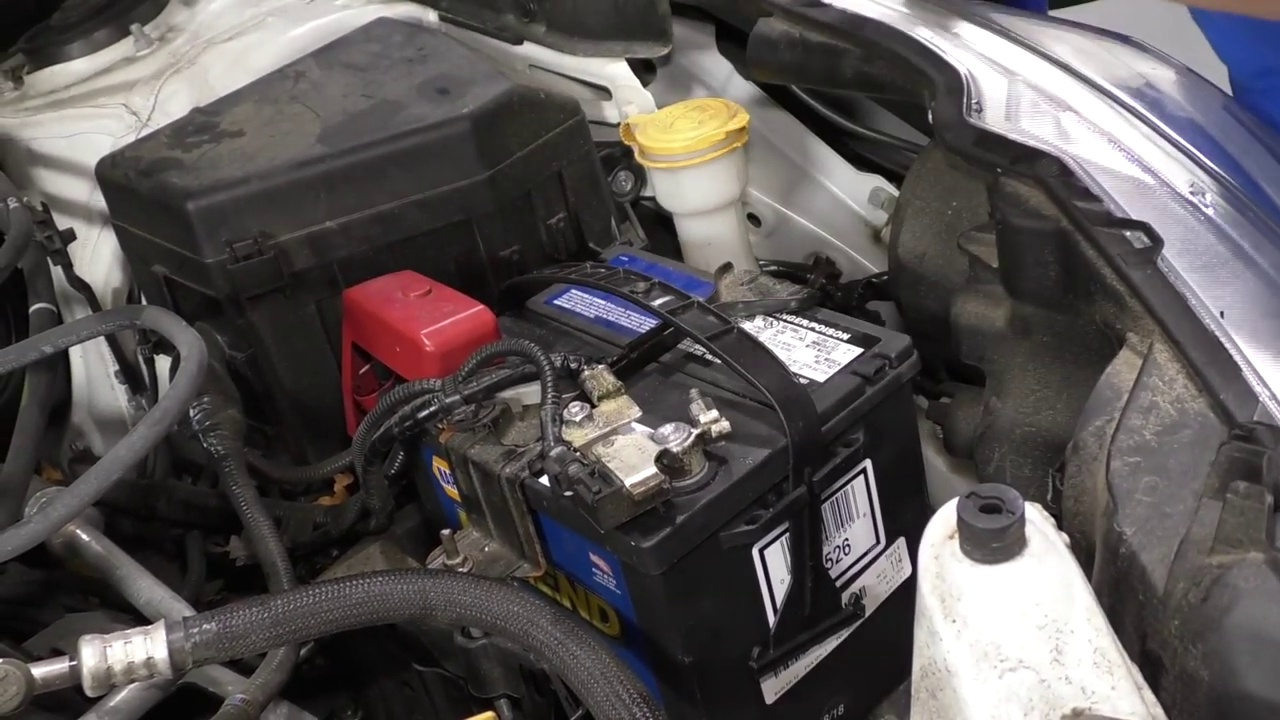battery: (364, 241, 922, 540)
neg_connected: (583, 375, 727, 529)
pos_connected: (316, 250, 517, 464)
